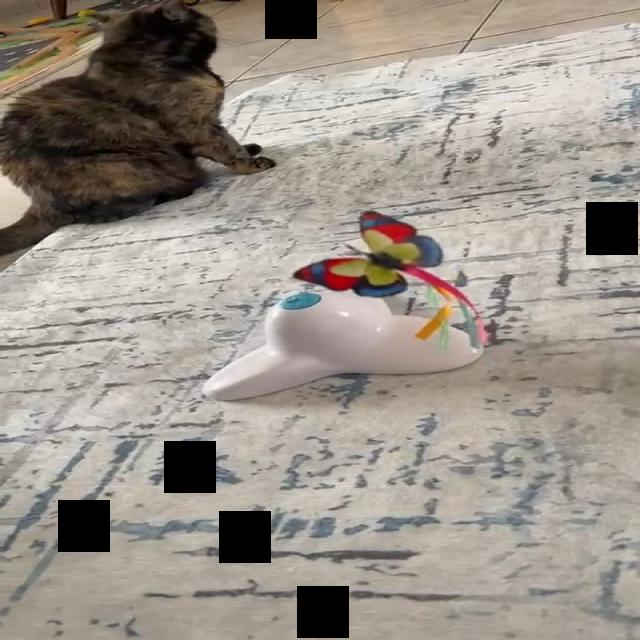authorized: (0, 0, 274, 257)
